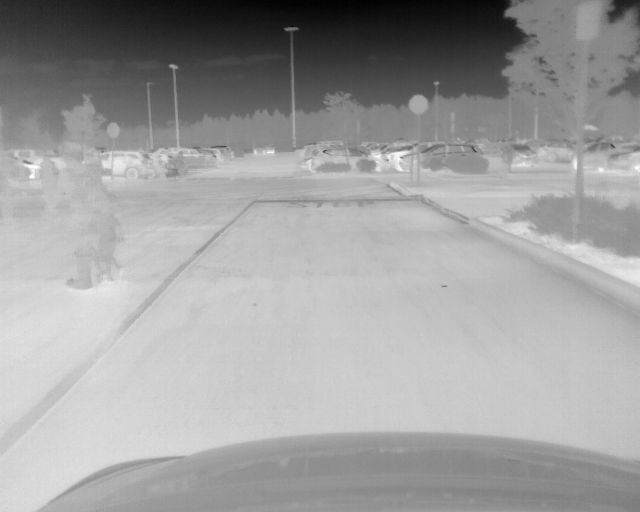car: (399, 145, 483, 169), (94, 151, 155, 180), (313, 150, 386, 172), (382, 143, 432, 168), (571, 144, 619, 168), (500, 144, 538, 167), (163, 148, 215, 164), (604, 150, 640, 173), (540, 141, 575, 161), (252, 145, 273, 155), (212, 148, 224, 162), (301, 159, 313, 172)
people: (59, 167, 96, 292), (94, 196, 124, 285), (1, 157, 21, 223), (36, 154, 59, 206)
